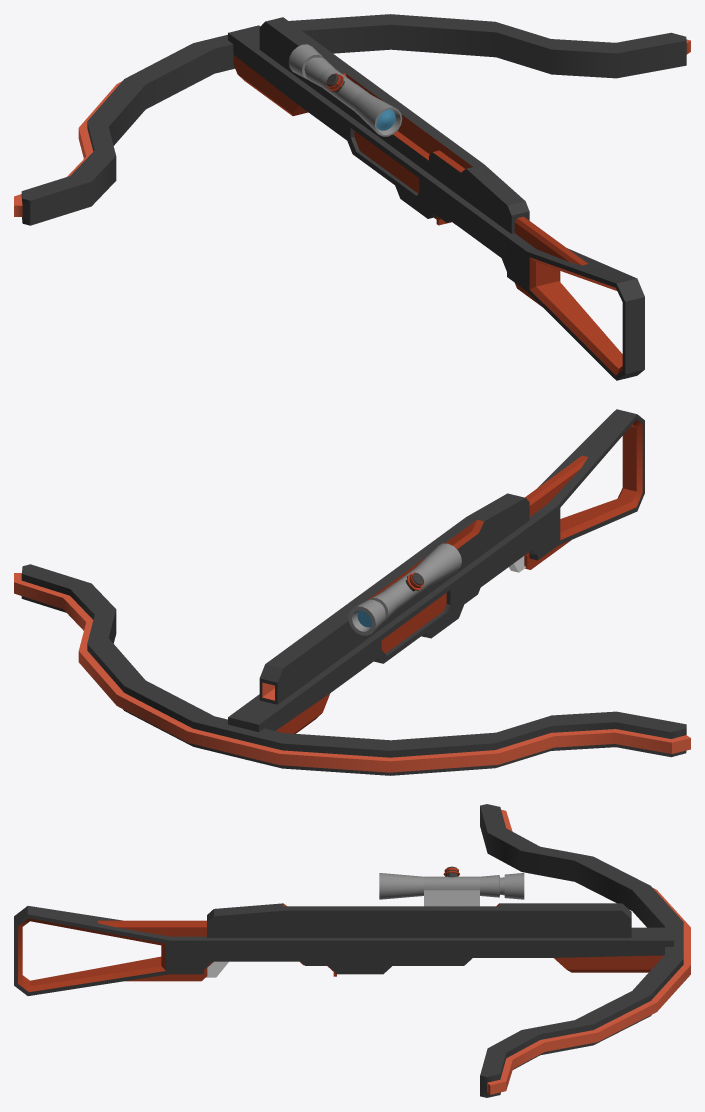
Rendered from crossbow.fbx.
The picture shows the model from 3 angles, top to bottom: view 1: azimuth 30°, elevation 25°; view 2: azimuth 150°, elevation 25°; view 3: azimuth 270°, elevation 25°; orthographic projection. The views are drawn at different scales.
Parts seen in each view (by area): view 1: Cube; view 2: Cube; view 3: Cube.
Part boxes in pixels (box(x1,y1,x2,y2)): Cube: box(14, 14, 690, 380); Cube: box(14, 409, 690, 775); Cube: box(14, 804, 690, 1097).
Bounding box in the file's own units: 273 × 49.83 × 281.
